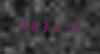eight: (27, 18, 36, 33)
four: (48, 19, 57, 34)
nine: (17, 17, 26, 32)
one: (58, 20, 67, 35)
three: (38, 19, 47, 33)
two: (68, 21, 77, 35)
